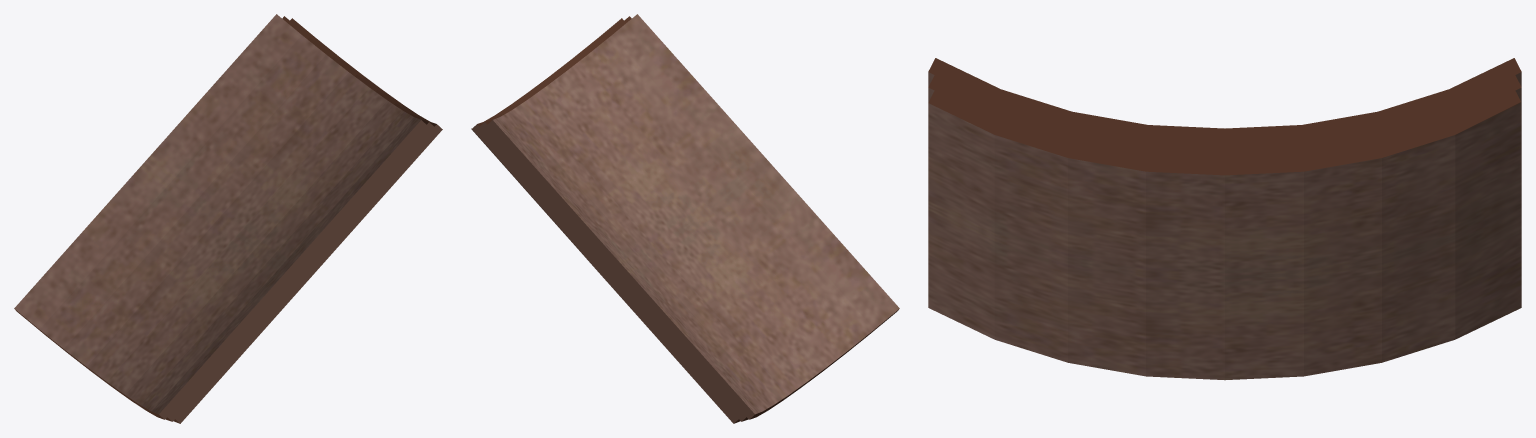
File: wapian.gltf
3 renders of one model, left to right at view 1: azimuth 30°, elevation 25°; view 2: azimuth 150°, elevation 25°; view 3: azimuth 270°, elevation 25°, orthographic. The views are drawn at different scales.
Parts seen in each view (by area): view 1: 对象002; view 2: 对象002; view 3: 对象002.
Part boxes in pixels (x1,y1,x2,y2): 对象002: (14,14,442,423); 对象002: (471,14,899,423); 对象002: (928,58,1521,380).
Bounding box in the file's own units: 42.72 × 36.31 × 36.24.
Materials: 1 (1 with a texture image).
